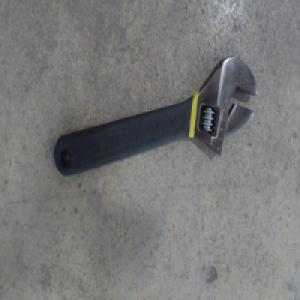AdjustableWrench: (54, 56, 258, 179)
